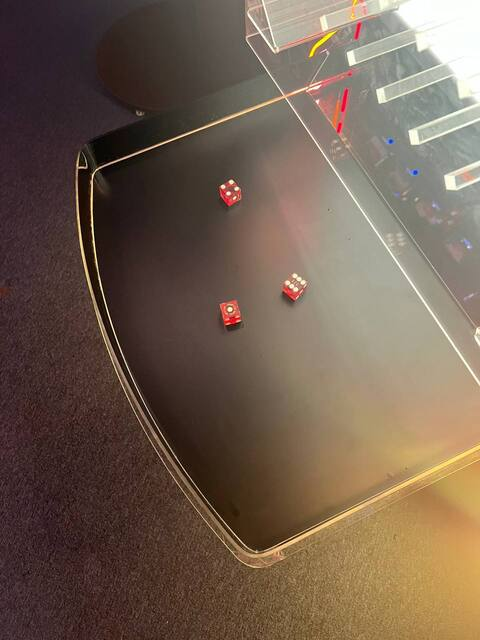four: (218, 178, 242, 198)
one: (218, 299, 240, 322)
six: (279, 270, 311, 294)
